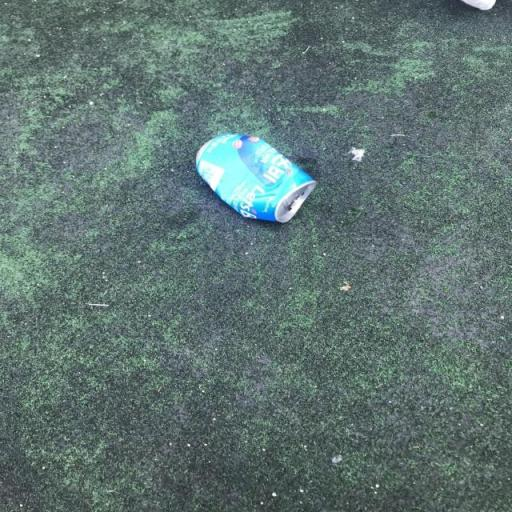metal: (164, 118, 421, 277)
